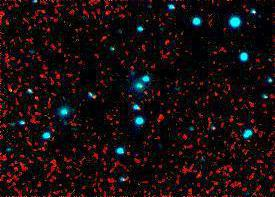star: (128, 78, 158, 108)
